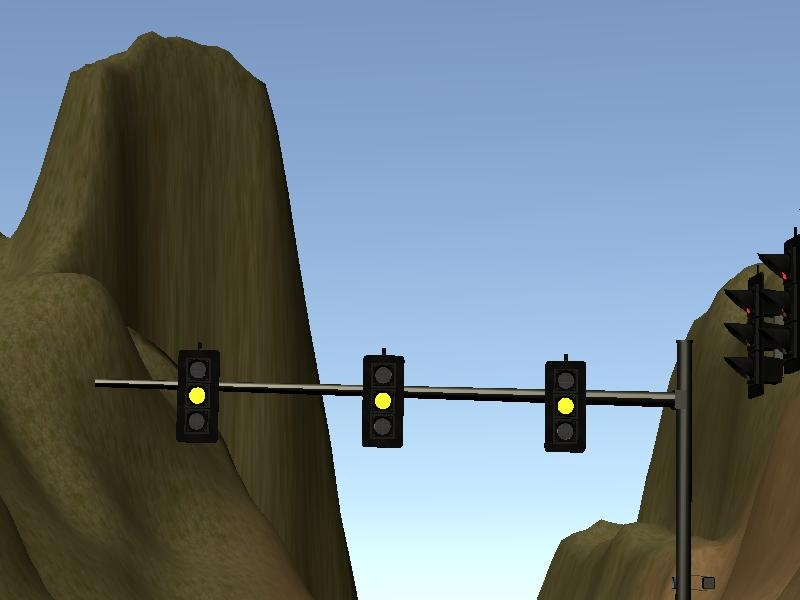yellow: (543, 359, 588, 452), (176, 350, 219, 446), (361, 354, 404, 448)
